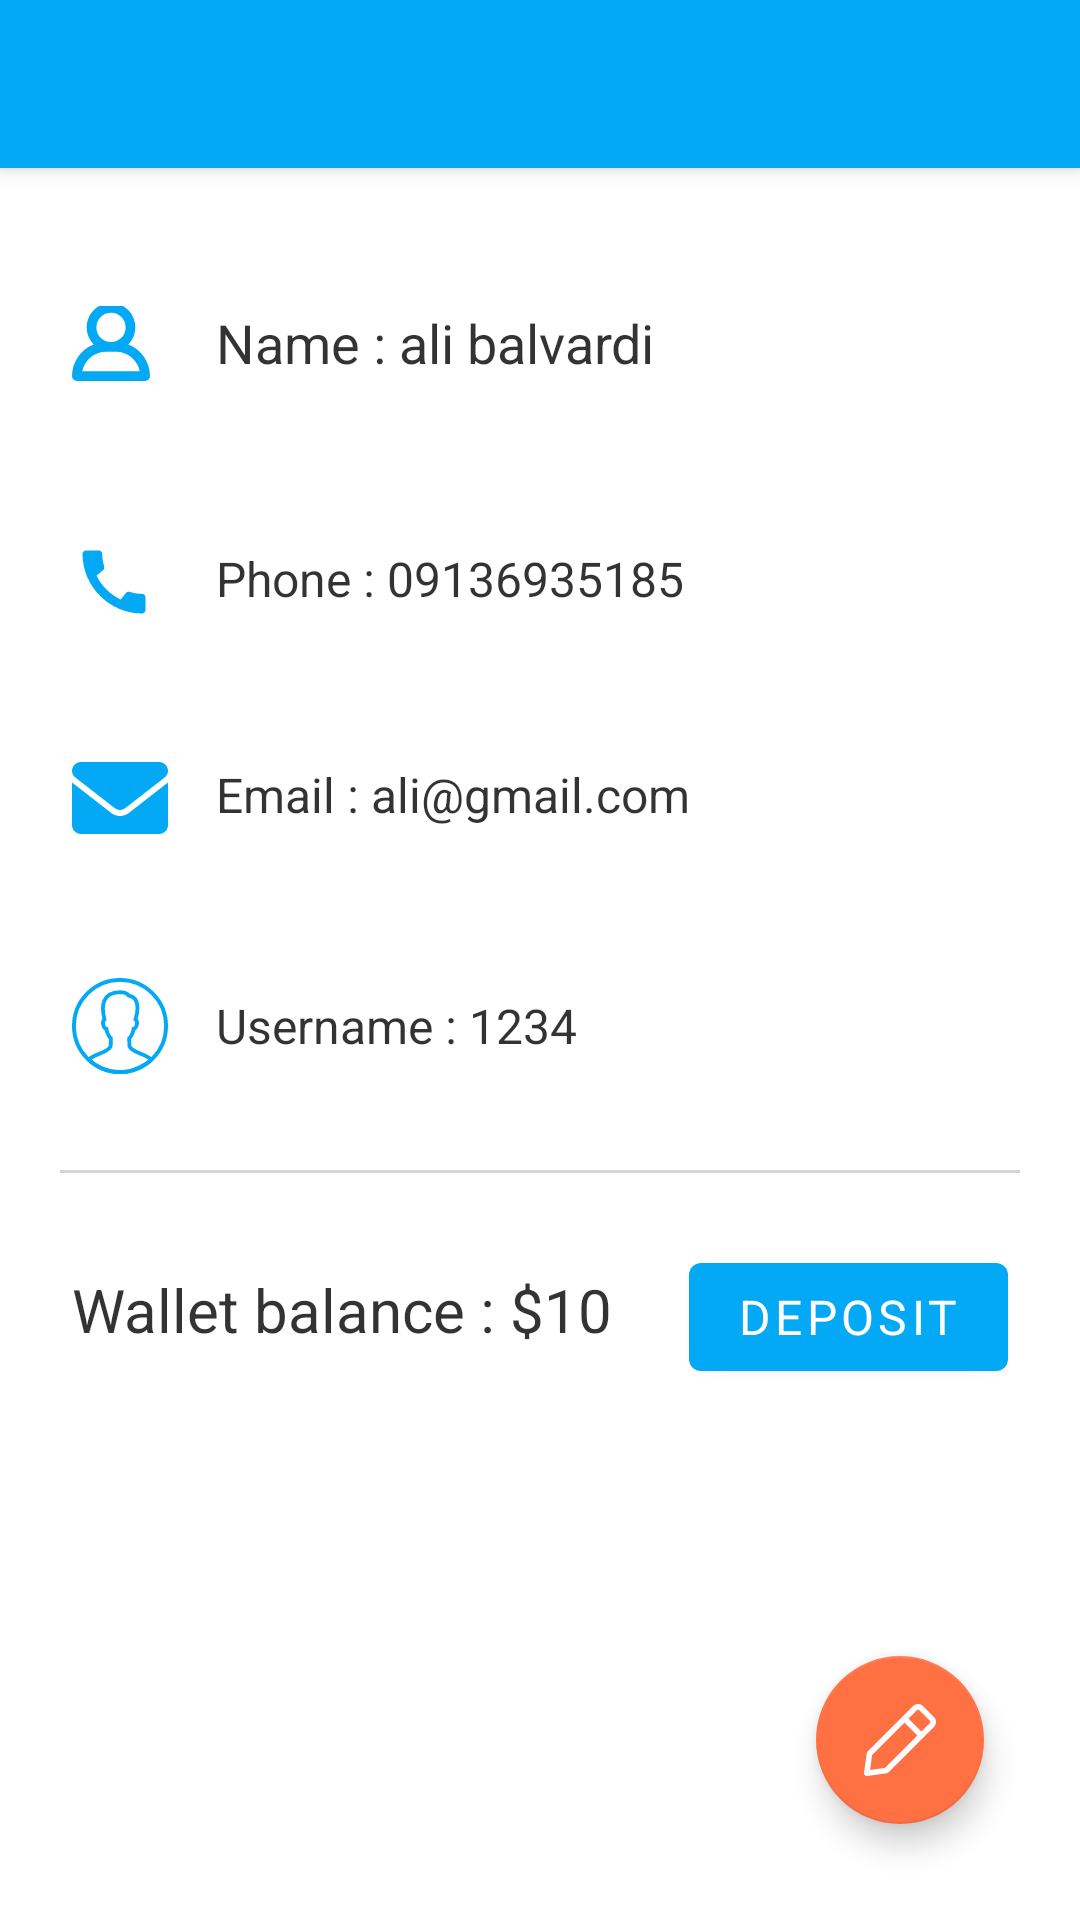

Where icons sit on this 1080px x 1920px app screen, as (x1, y1, x2, y2):
call: (82, 550, 146, 614)
edit: (816, 1656, 986, 1841)
